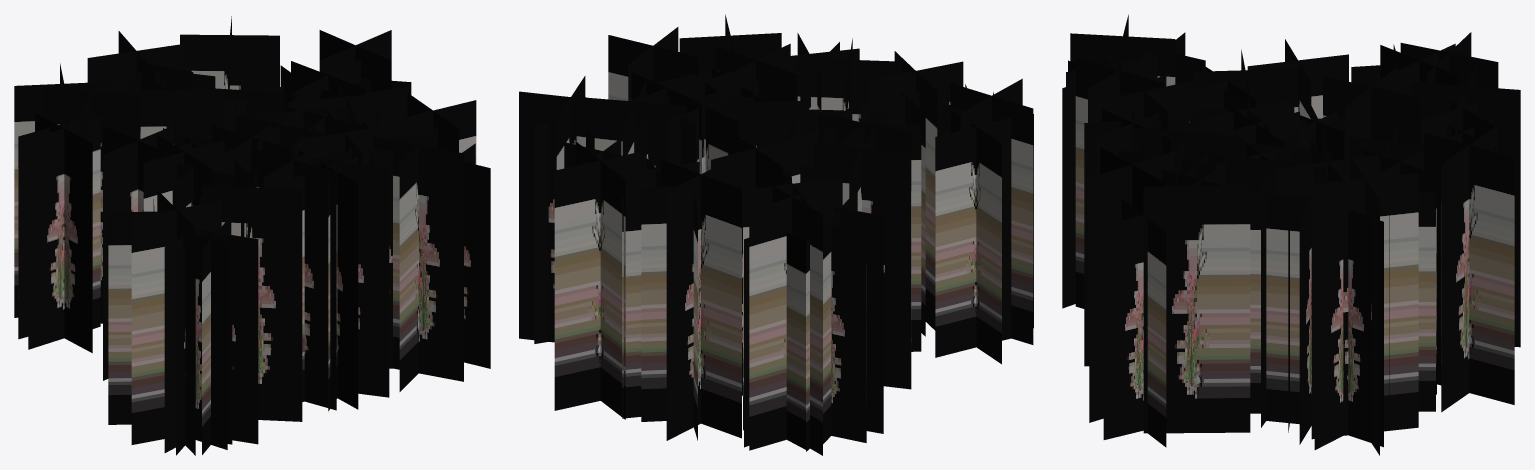
File: red_grass.glb
3 views of the same model, side by side, from view 1: azimuth 30°, elevation 25°; view 2: azimuth 150°, elevation 25°; view 3: azimuth 270°, elevation 25° (orthographic). The views are drawn at different scales.
Parts seen in each view (by area): view 1: red-baron-grass-ornamental-Va7qqJC-600.001_w; view 2: red-baron-grass-ornamental-Va7qqJC-600.001_w; view 3: red-baron-grass-ornamental-Va7qqJC-600.001_w.
Part boxes in pixels (x1=…): red-baron-grass-ornamental-Va7qqJC-600.001_w: x1=14, y1=16, x2=490, y2=455; red-baron-grass-ornamental-Va7qqJC-600.001_w: x1=519, y1=14, x2=1033, y2=455; red-baron-grass-ornamental-Va7qqJC-600.001_w: x1=1062, y1=14, x2=1520, y2=455.
Size of the model in its own units: 1.4 by 0.85 by 1.37.
Materials: 1 (1 with a texture image).
